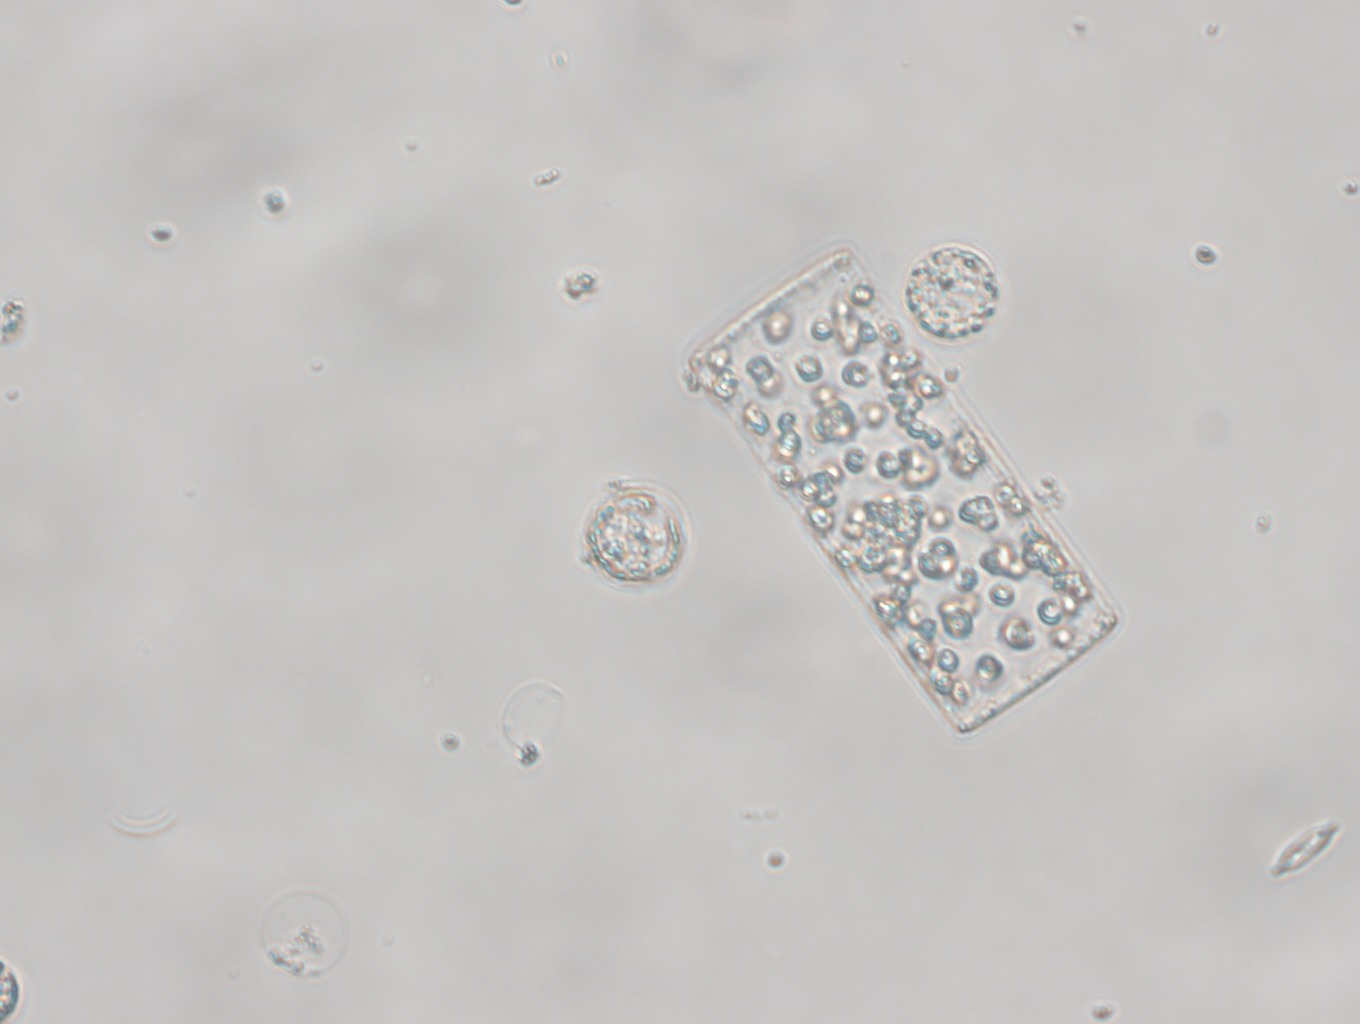guinardia flaccida: (679, 248, 1127, 735)
